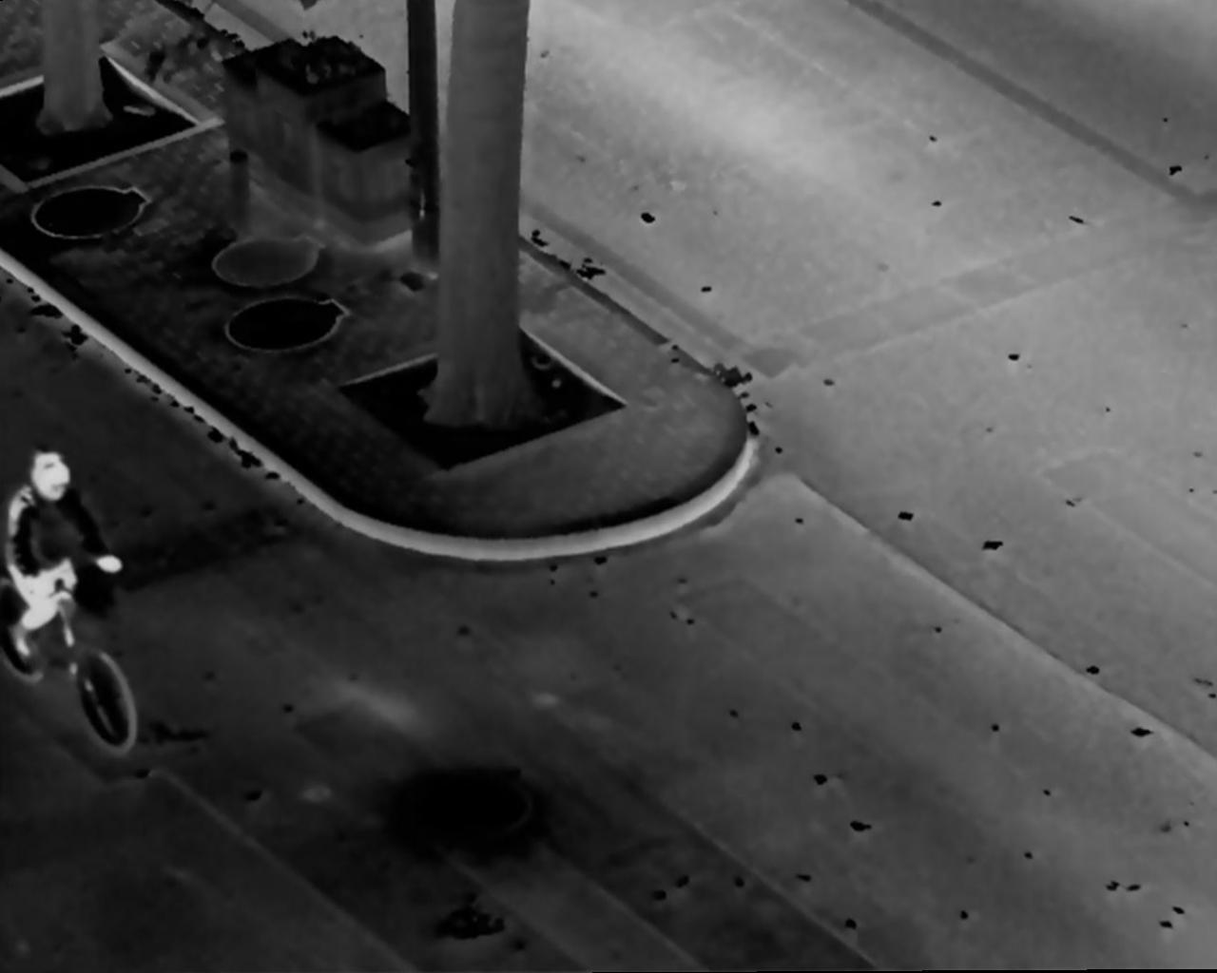person: (9, 435, 118, 706)
